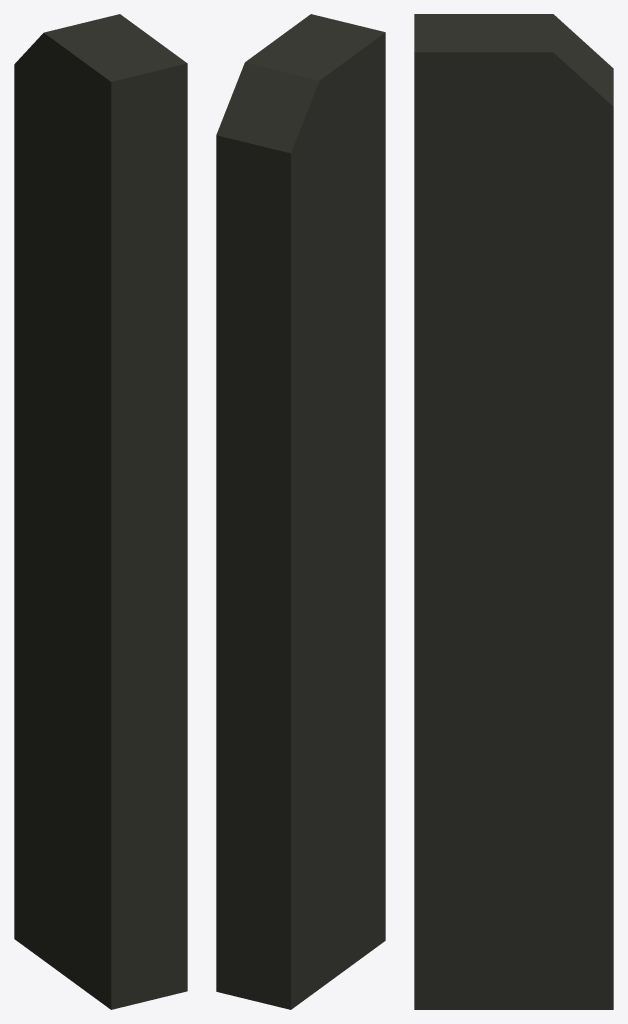
The model's file is 10_uzi_magazine.glb.
3 renders of one model, left to right at view 1: azimuth 30°, elevation 25°; view 2: azimuth 150°, elevation 25°; view 3: azimuth 270°, elevation 25°, orthographic. The views are drawn at different scales.
Parts seen in each view (by area): view 1: items/10_uzi_magazine; view 2: items/10_uzi_magazine; view 3: items/10_uzi_magazine.
Part boxes in pixels (left/top/right/bottom): items/10_uzi_magazine: left=14, top=14, right=187, bottom=1009; items/10_uzi_magazine: left=216, top=14, right=385, bottom=1009; items/10_uzi_magazine: left=414, top=14, right=613, bottom=1009.
Size of the model in its own units: 0.0142 by 0.165 by 0.0312.
1 material, 1 textured.
